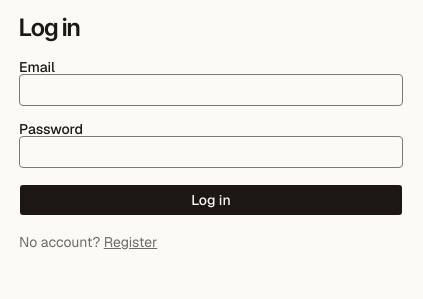
Test case: LoginForm › starts a 60s countdown when Spring 429s
Type "user@nexus.test" into the field labelled "Email".
click(211, 90); type("user@nexus.test")  # box [19,74,403,106]
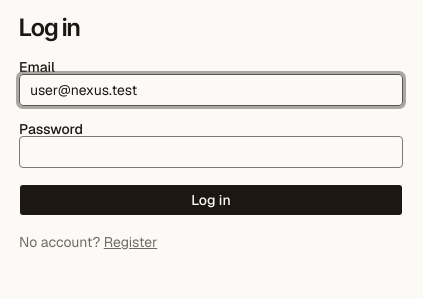
Type "whatever12" into the password field labelled "Password".
click(211, 152); type("whatever12")  # box [19,136,403,168]
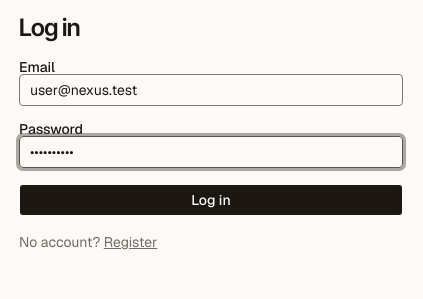
Click the button "Log in".
click(211, 200)  # box [19,184,403,216]
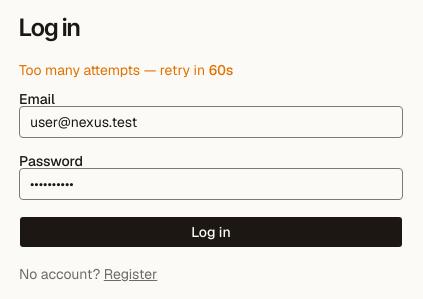
Expected: the text "Too many attempts — retry in 60s" is shown, [19,61,233,79]
